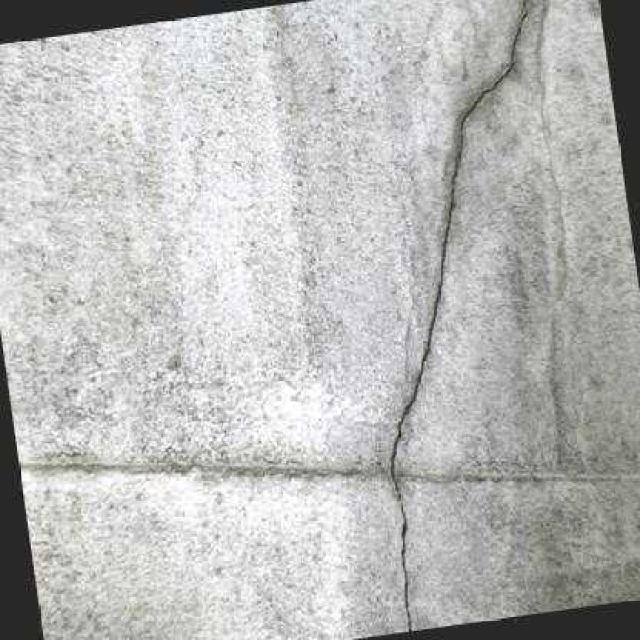D00: (381, 0, 529, 632)
